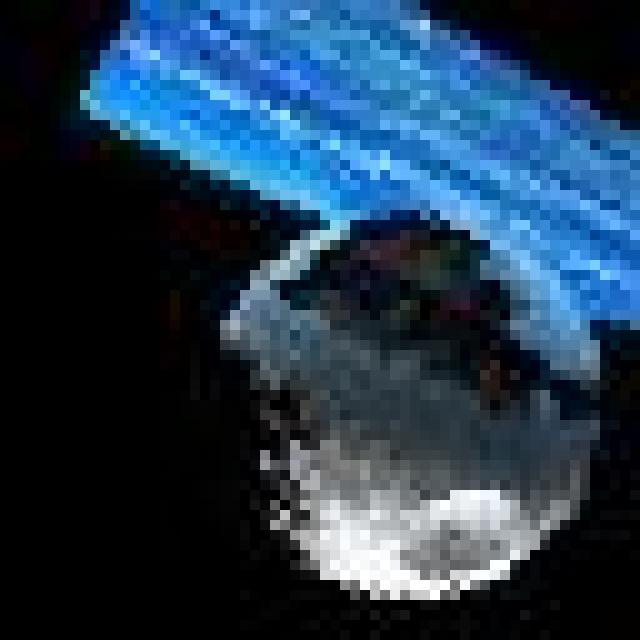Death Star: (210, 211, 593, 612)
